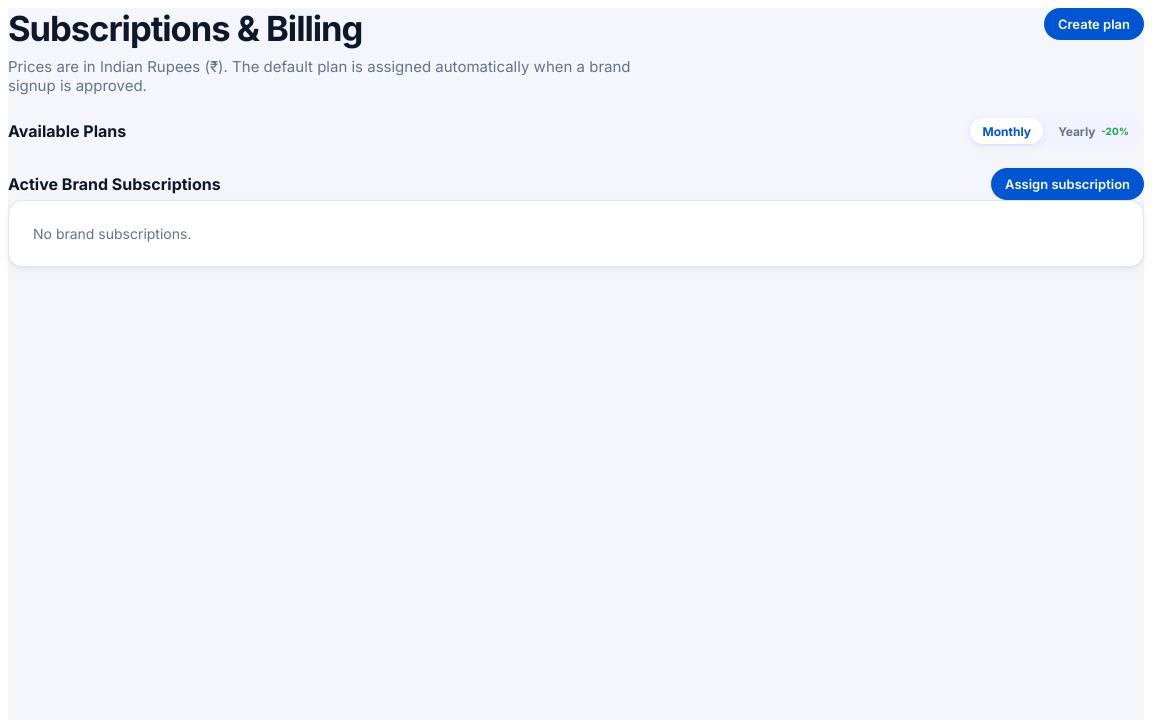
SubscriptionsPage › regression_subscriptions_page_has_assign_subscription_form
Expected: the button "Assign plan" is not shown
Click the button "Assign subscription".
click(1068, 184)  # box [991,168,1144,200]
(page scrolled)
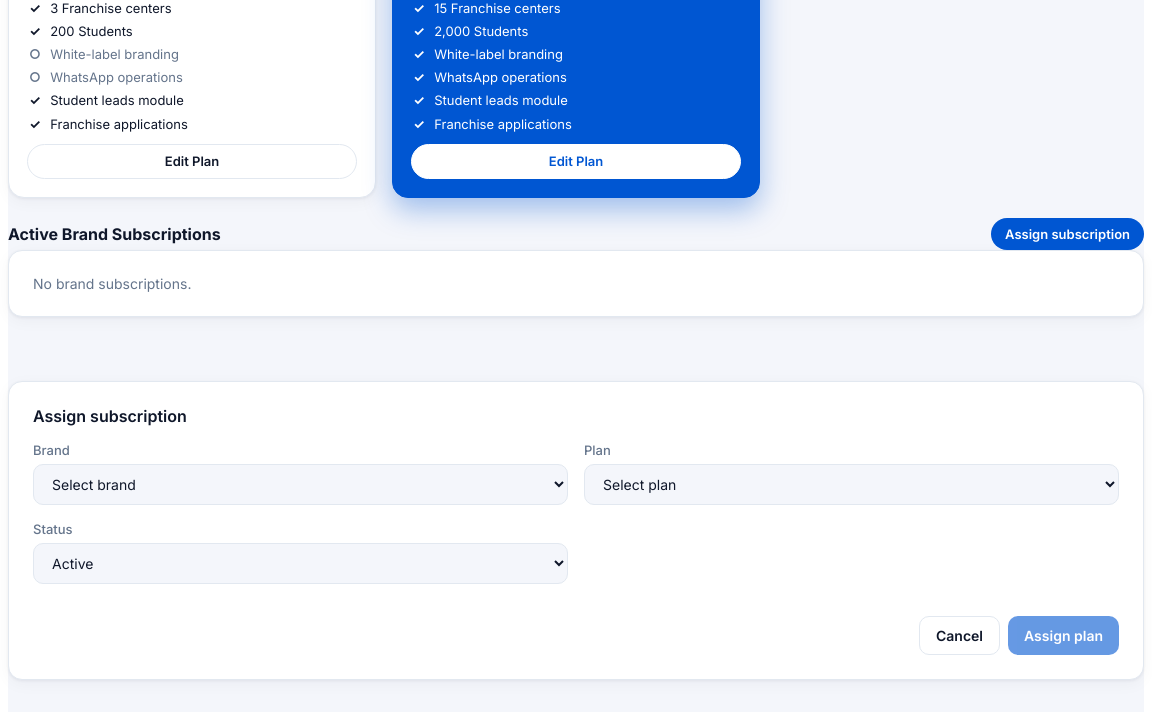
Now the button "Assign plan" is shown, box [1008,616,1119,655]
Now the button "Cancel" is shown, box [919,616,1000,655]
